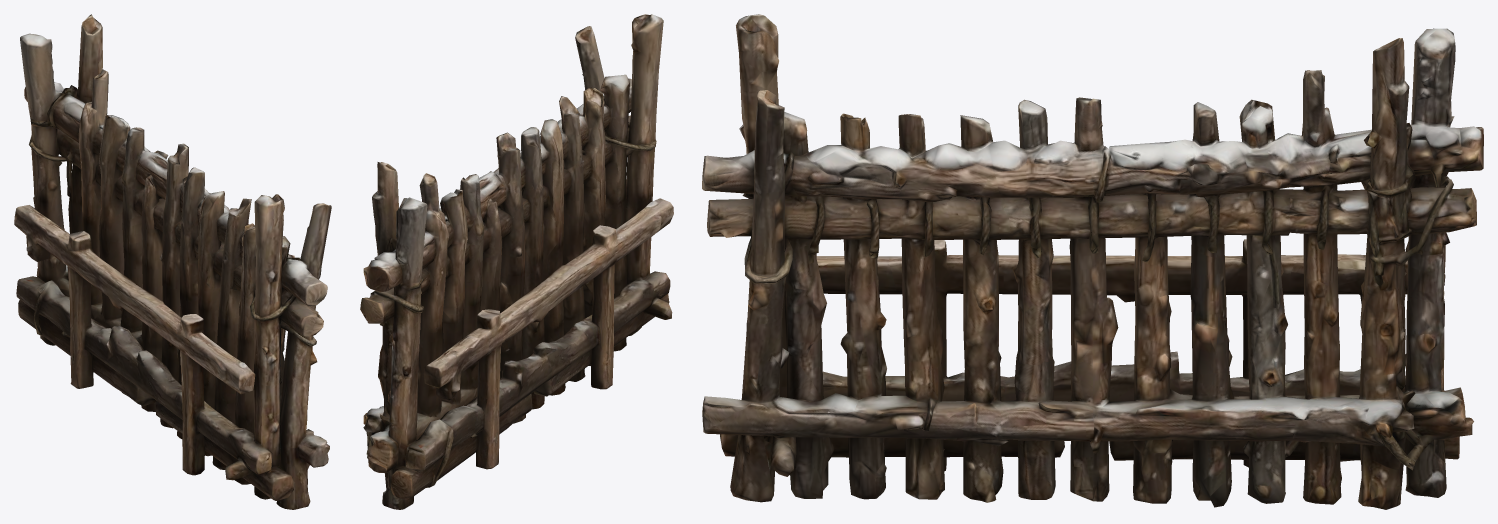
Rendered from palisade-high.glb.
3 renders of one model, left to right at view 1: azimuth 30°, elevation 25°; view 2: azimuth 150°, elevation 25°; view 3: azimuth 270°, elevation 25°, orthographic. The views are drawn at different scales.
Bounding box in the file's own units: 0.2159 × 0.67 × 0.9994.
Materials: 1 (1 with a texture image).
